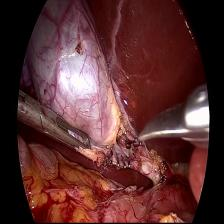Grasper: (17, 91, 93, 157)
Scissors: (134, 82, 210, 158)
